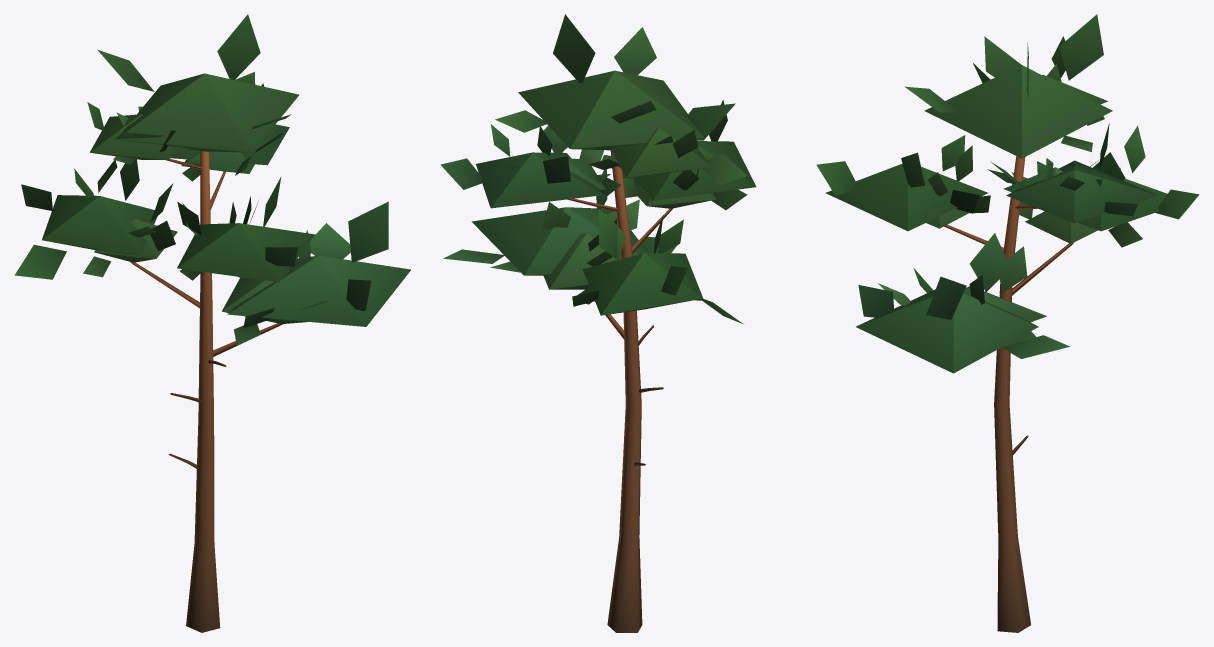
Rendered from pine_a_lod.glb.
The picture shows the model from 3 angles, left to right: view 1: azimuth 30°, elevation 25°; view 2: azimuth 150°, elevation 25°; view 3: azimuth 270°, elevation 25°; orthographic projection. The views are drawn at different scales.
Visible parts, largest first — view 1: pine_a_lod; view 2: pine_a_lod; view 3: pine_a_lod.
Boxes of the visible parts, x1=… form: pine_a_lod: x1=14, y1=14, x2=410, y2=632; pine_a_lod: x1=440, y1=14, x2=756, y2=632; pine_a_lod: x1=816, y1=14, x2=1199, y2=632.
Size of the model in its own units: 6.66 by 11.37 by 6.45.
